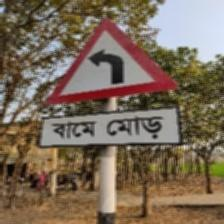Left-Turn: (40, 15, 182, 147)
